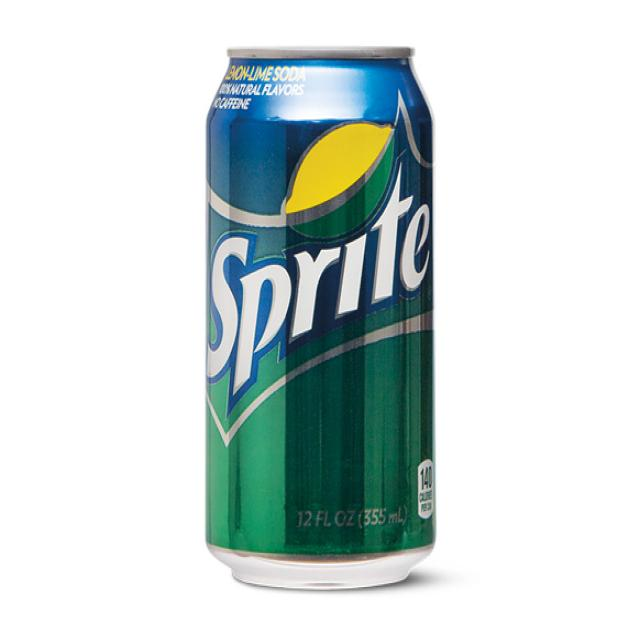sprite: (194, 33, 444, 599)
